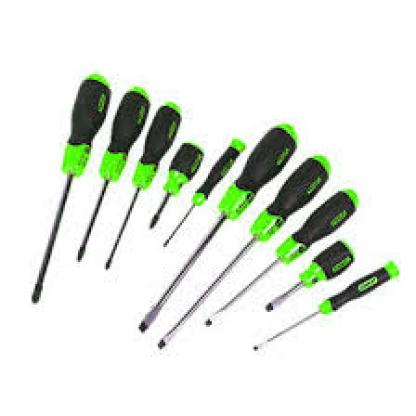Screw Driver: (152, 146, 339, 354), (131, 116, 305, 338), (199, 182, 367, 335), (20, 65, 117, 313), (68, 78, 154, 280), (246, 252, 408, 356), (98, 96, 188, 280)
